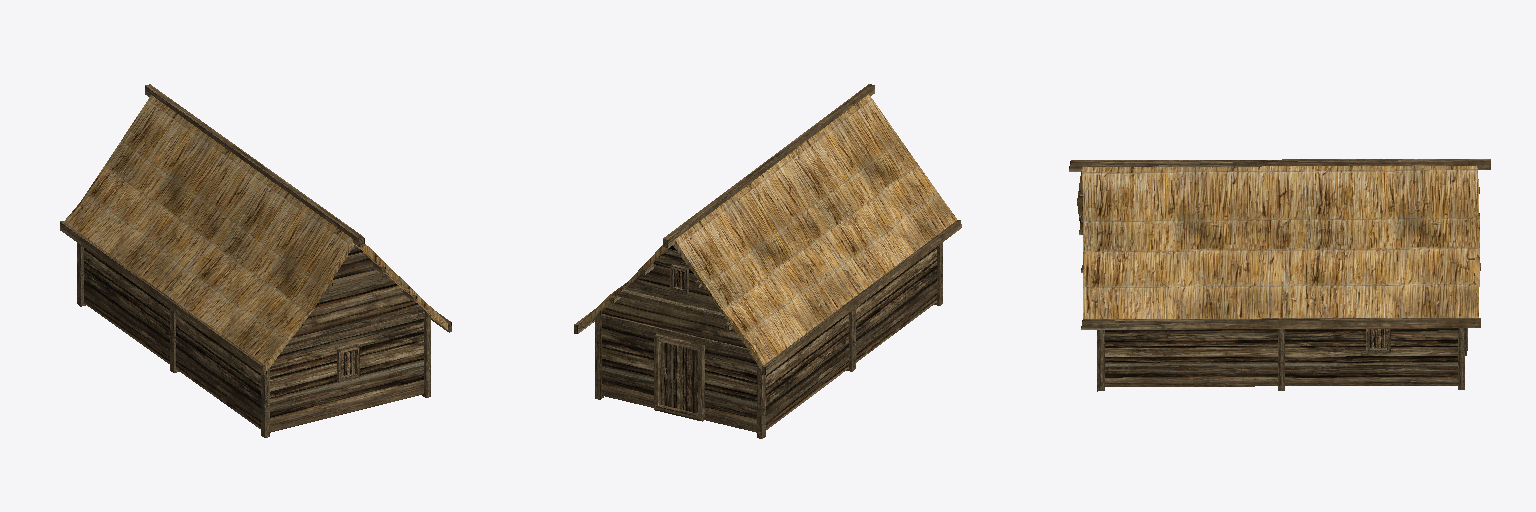
3 views of the same model, side by side, from view 1: azimuth 30°, elevation 25°; view 2: azimuth 150°, elevation 25°; view 3: azimuth 270°, elevation 25° (orthographic).
Visible parts, largest first — view 1: Cube.003_Cube.004; view 2: Cube.003_Cube.004; view 3: Cube.003_Cube.004.
Boxes of the visible parts, <box> form: Cube.003_Cube.004: <box>60,84,451,437</box>; Cube.003_Cube.004: <box>574,84,961,438</box>; Cube.003_Cube.004: <box>1069,159,1490,391</box>.
Size of the model in its own units: 8.68 by 8.09 by 16.36.
1 materials, 1 textured.